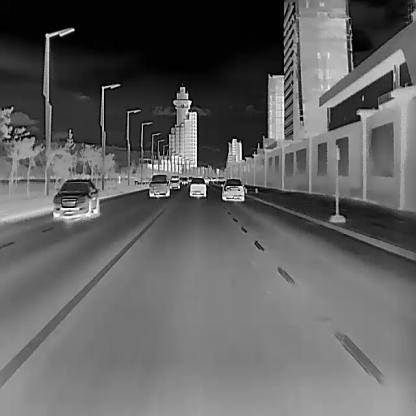car: (52, 178, 100, 219), (220, 177, 243, 200), (148, 173, 169, 197), (189, 175, 206, 197), (168, 176, 179, 189)
